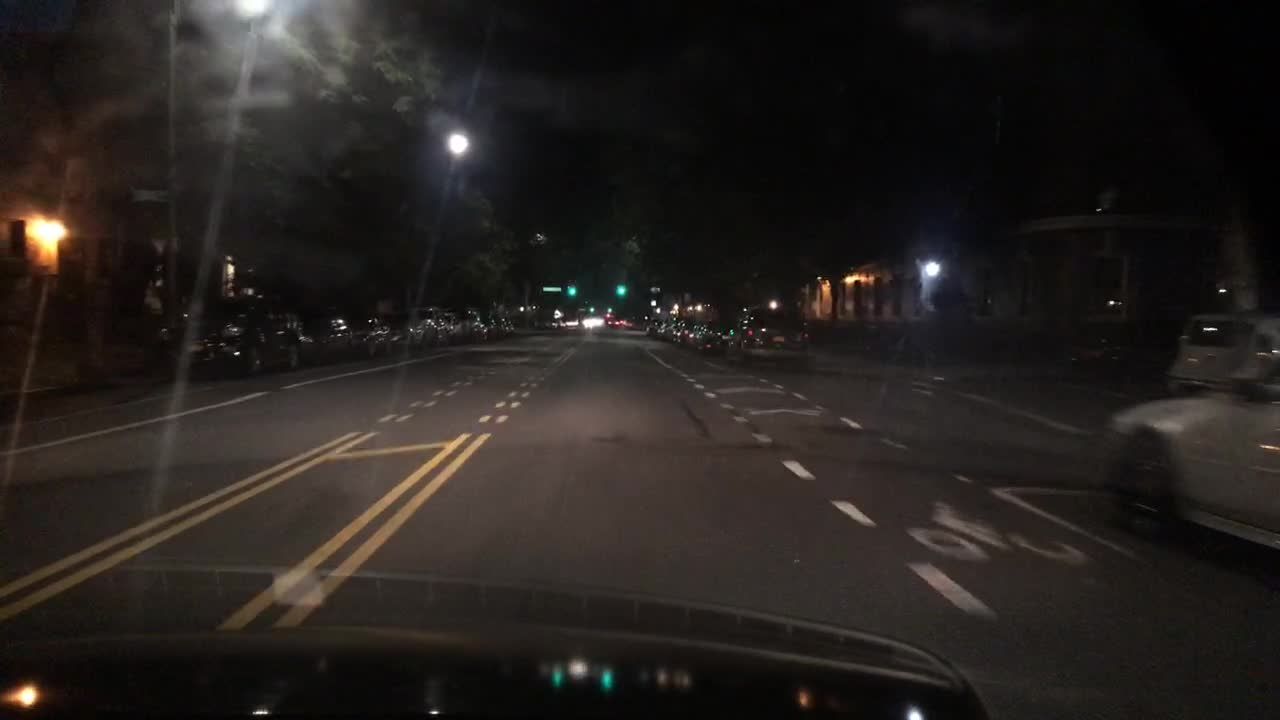car: (1095, 379, 1280, 557), (153, 293, 302, 385), (1163, 310, 1280, 396), (724, 307, 814, 369), (294, 313, 360, 364), (355, 315, 414, 352), (401, 309, 447, 346), (440, 307, 486, 339), (699, 319, 738, 353), (481, 313, 516, 339), (679, 322, 704, 347), (672, 319, 693, 344), (579, 316, 604, 330), (647, 319, 664, 338), (661, 321, 678, 338), (607, 315, 626, 329)
traffic light: (615, 281, 626, 298), (569, 284, 579, 299)
traffic sign: (134, 186, 173, 204), (543, 284, 564, 292), (552, 309, 564, 319)
